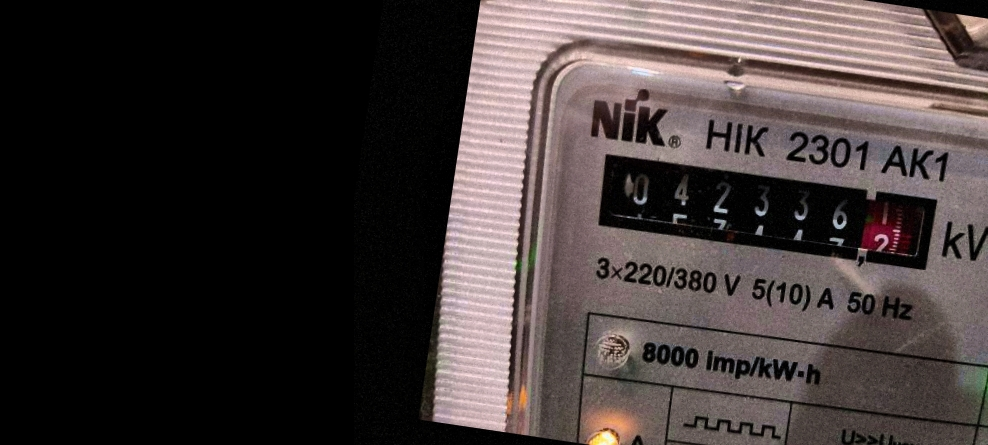0: (629, 170, 654, 207)
1: (877, 197, 894, 228)
2: (710, 177, 735, 216), (870, 230, 892, 254)
3: (751, 179, 775, 220), (789, 185, 814, 224)
4: (671, 169, 695, 208)
6: (827, 194, 854, 232)
screen: (587, 139, 949, 283)
